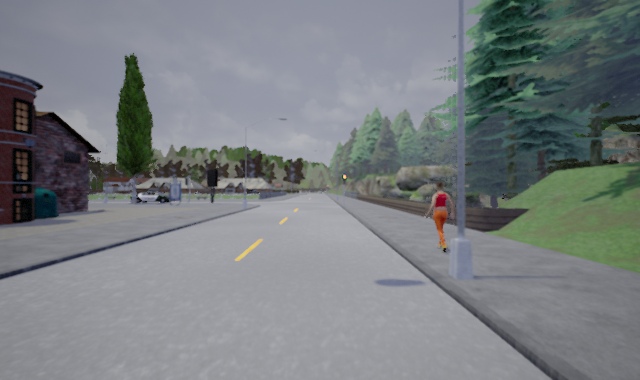pedestrian: (423, 178, 459, 252)
vehicle: (132, 191, 170, 204)
